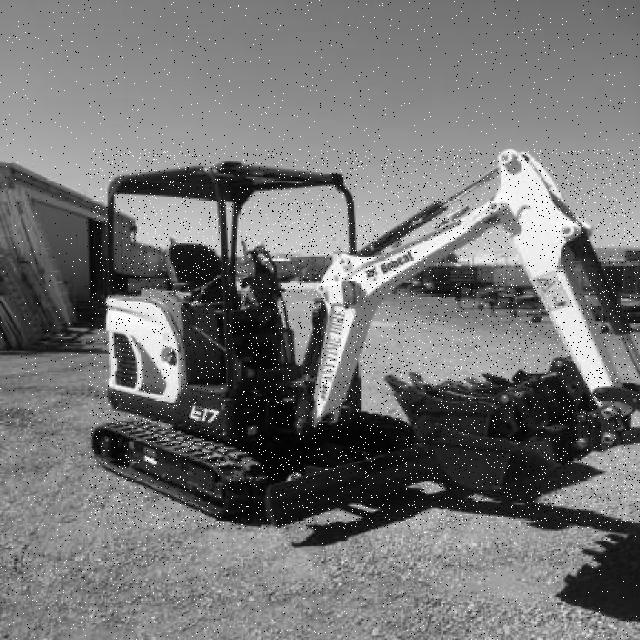Construction Equipment: (89, 149, 640, 529)
